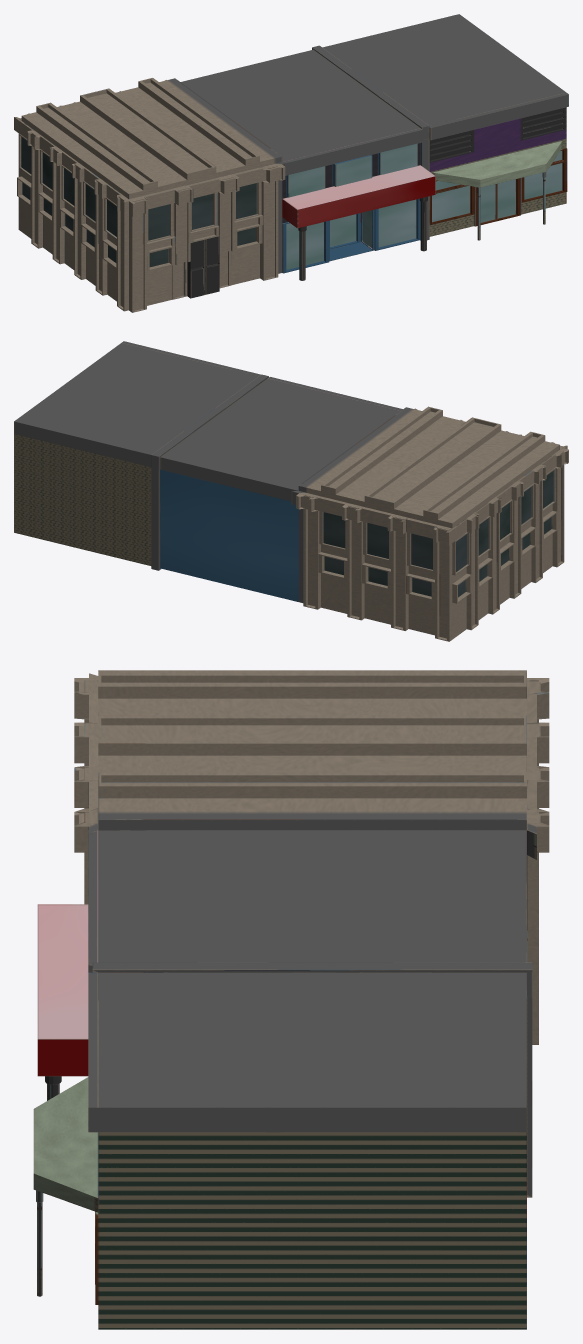
The model's file is ConnectedShops.fbx.
The picture shows the model from 3 angles, top to bottom: view 1: azimuth 30°, elevation 25°; view 2: azimuth 150°, elevation 25°; view 3: azimuth 270°, elevation 25°; orthographic projection. The views are drawn at different scales.
Visible parts, largest first — view 1: Baked3Shops.001; view 2: Baked3Shops.001; view 3: Baked3Shops.001.
Part boxes in pixels (x1,y1,x2,y2): Baked3Shops.001: [14, 14, 568, 312]; Baked3Shops.001: [14, 341, 568, 641]; Baked3Shops.001: [33, 670, 549, 1329].
Size of the model in its own units: 3351 by 890 by 1684.
1 material, 1 textured.
